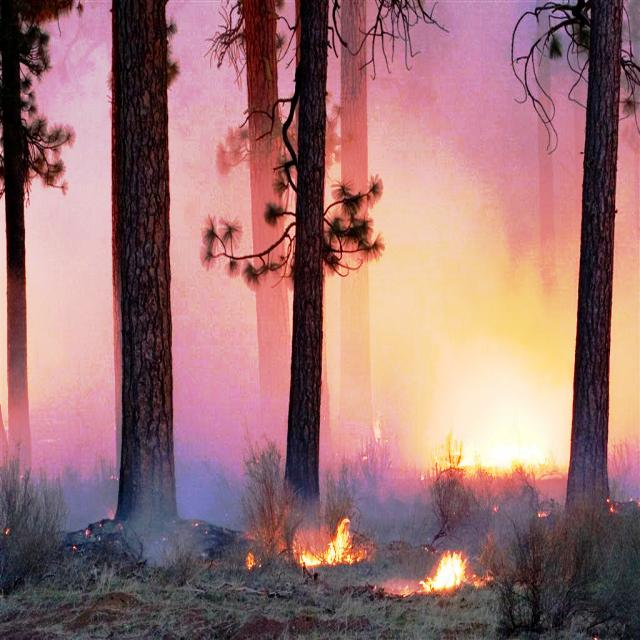api: (466, 415, 548, 475), (302, 524, 362, 572), (419, 561, 468, 594)
asap: (437, 9, 517, 226), (42, 422, 115, 540), (120, 508, 199, 574)
